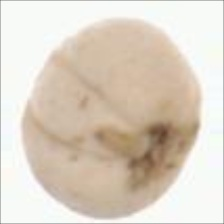L5: (24, 54, 136, 157), (122, 119, 202, 196)
L6: (20, 16, 203, 221)
